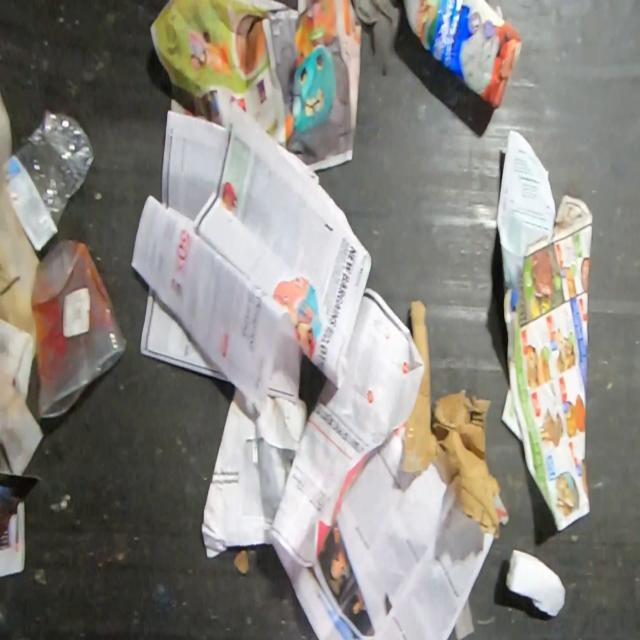cardboard: (400, 298, 502, 541), (402, 0, 524, 111), (504, 545, 566, 621)
rigid_plastic: (31, 236, 128, 419), (2, 103, 96, 253)
soft_plastic: (351, 0, 406, 71)
